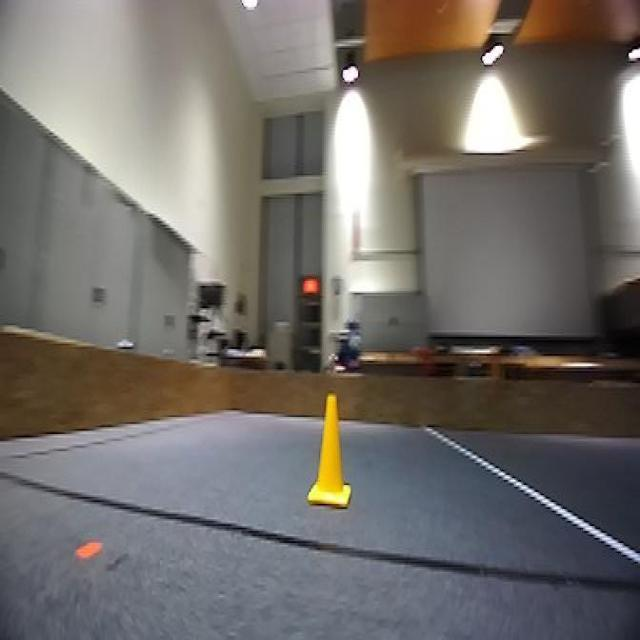frc_cone: (308, 395, 355, 517)
